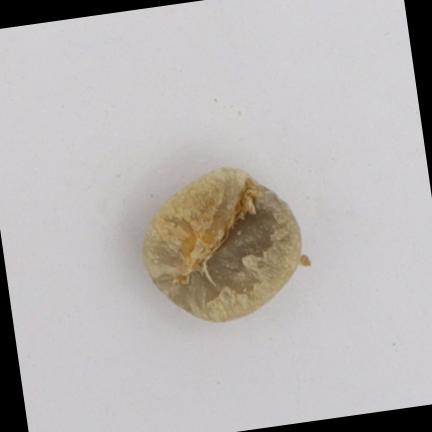husk: (143, 167, 304, 321)
